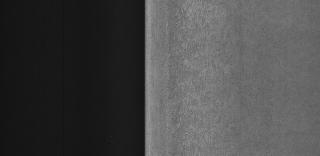silk spot: (169, 7, 229, 142)
